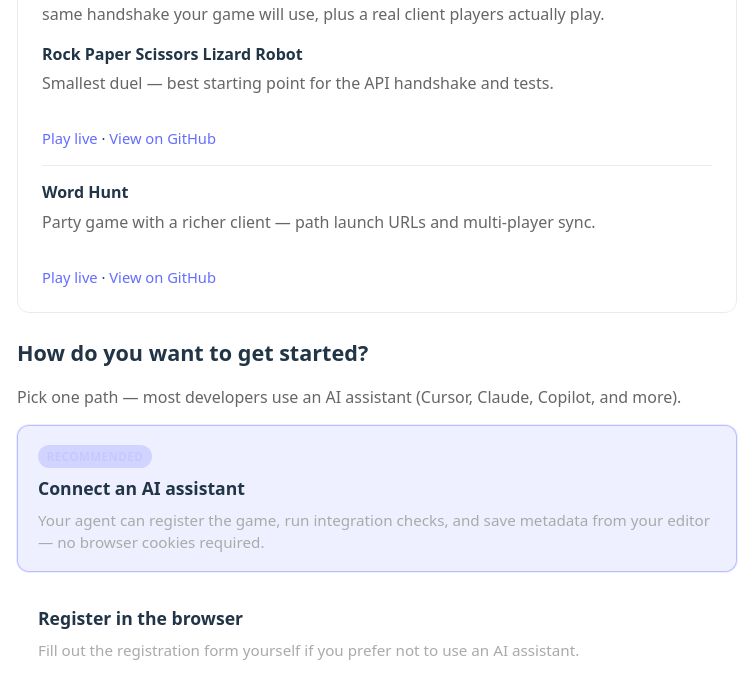
Test: DeveloperLandingPage › navigates to manual registration from route picker
The width and height of the screenshot is (755, 697).
(page scrolled)
Click the button "Register in the browser": (141, 618) [17,586,737,680]
(page scrolled)
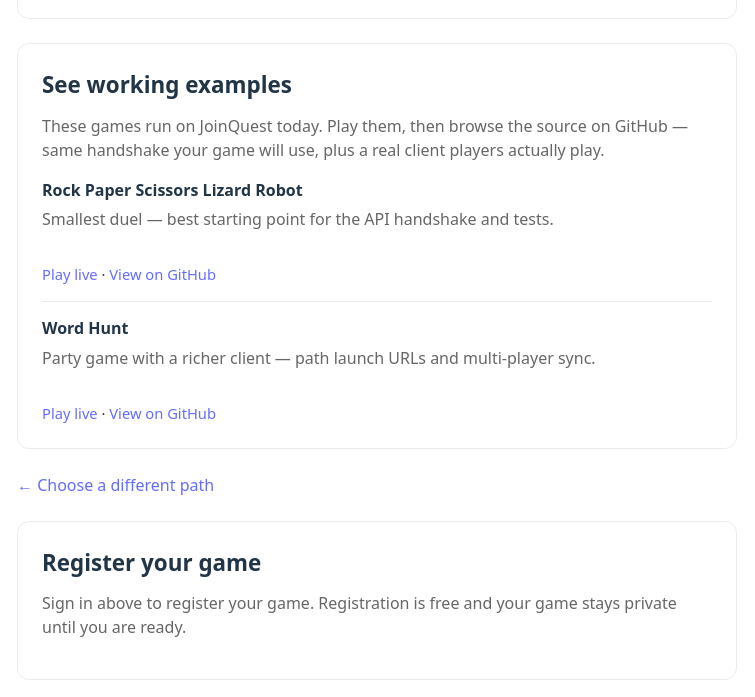
Result: the heading "Register your game" is shown at [42,547,261,578]
